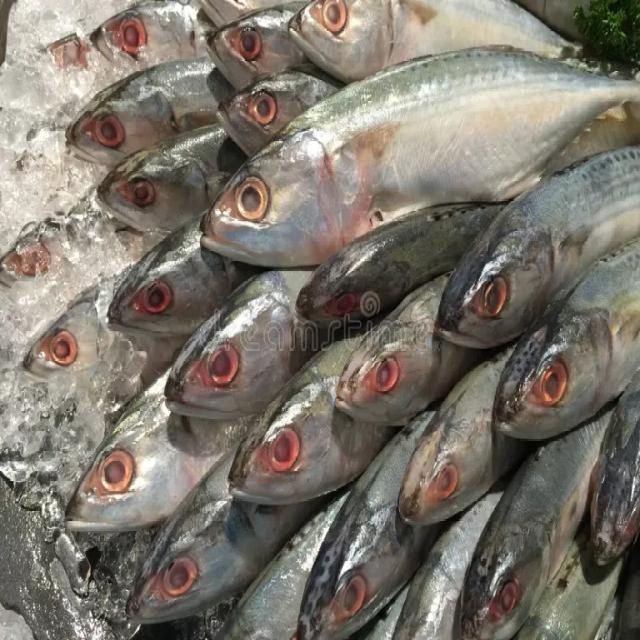Mackerel: (198, 48, 639, 270), (440, 150, 638, 355), (64, 366, 254, 533), (227, 330, 400, 502), (340, 274, 470, 424)
